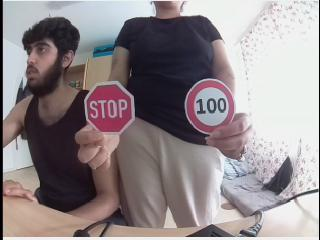Speedlimit_100: (184, 80, 232, 132)
stop: (82, 82, 134, 134)
